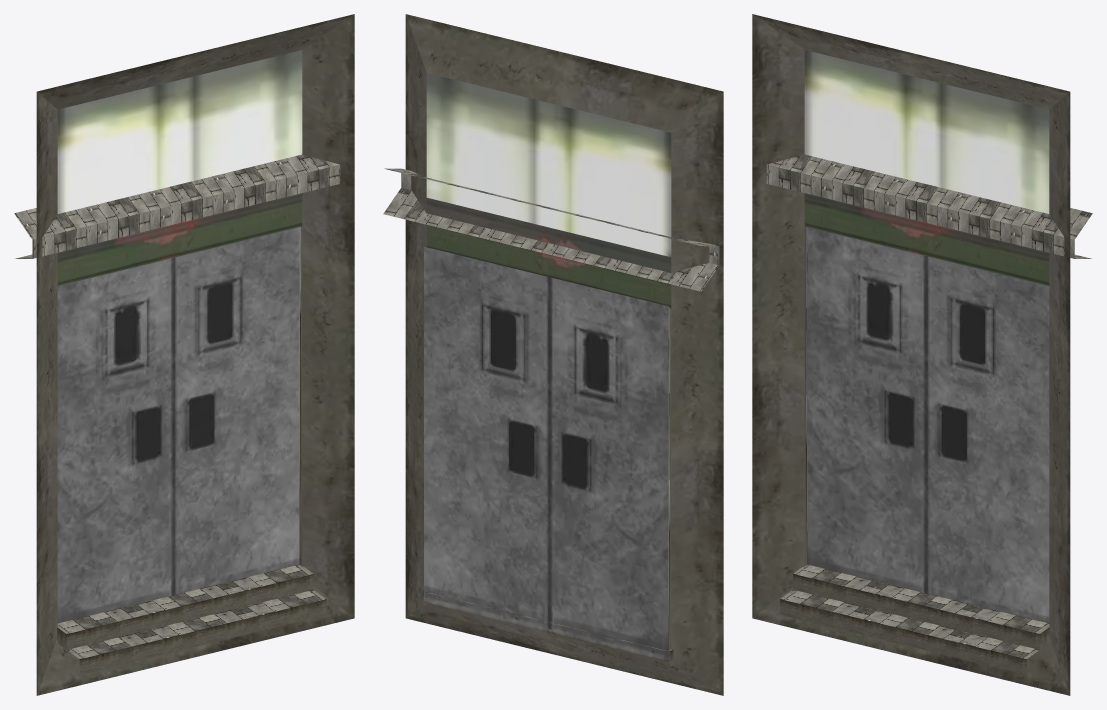
File: pm-wall-module-02.glb
3 views of the same model, side by side, from view 1: azimuth 30°, elevation 25°; view 2: azimuth 150°, elevation 25°; view 3: azimuth 330°, elevation 25° (orthographic).
Parts seen in each view (by area): view 1: Wall_Module_02; view 2: Wall_Module_02; view 3: Wall_Module_02.
Boxes of the visible parts, bbox=[...] form: Wall_Module_02: bbox=[14, 14, 354, 695]; Wall_Module_02: bbox=[383, 14, 723, 695]; Wall_Module_02: bbox=[752, 14, 1092, 695].
Size of the model in its own units: 2.27 by 4.13 by 0.3728.
1 material, 1 textured.
